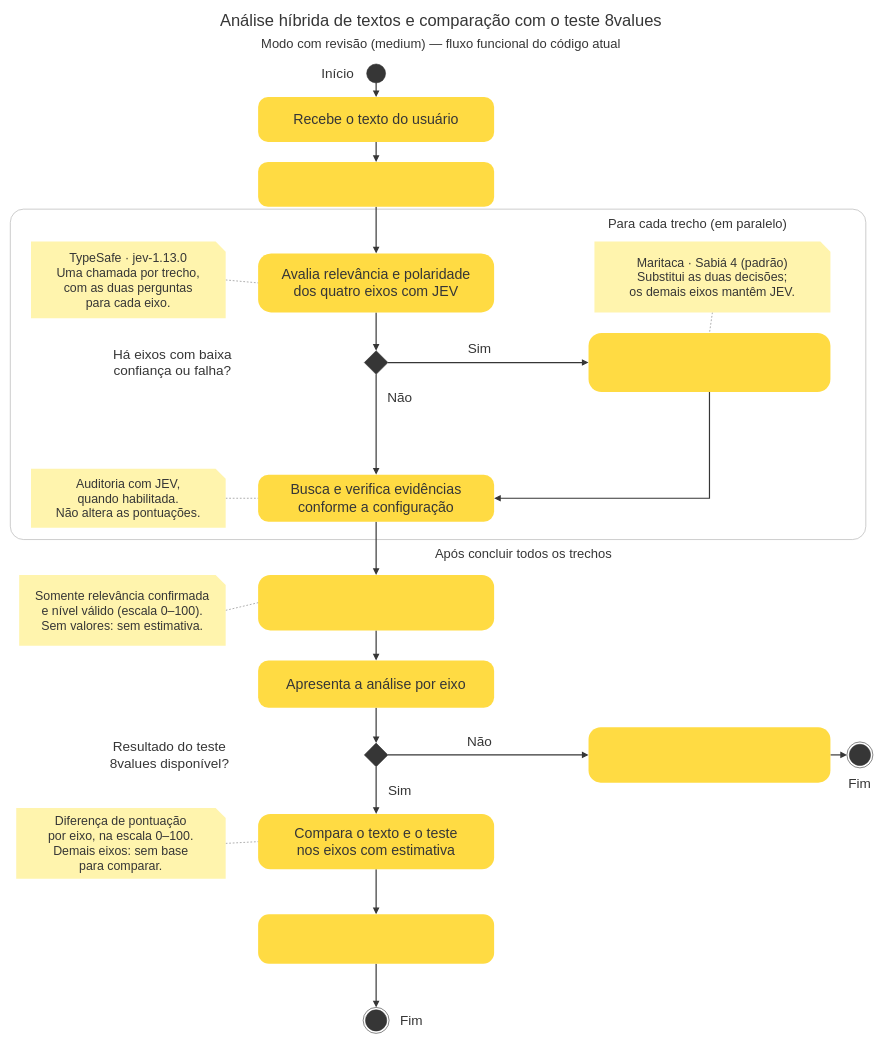
This 894x1044 diagram has some shape labels left out. Each missing label, with the centre of its shape:
"Agrega as pontuações válidas pela média de cada eixo" belongs at (x=376, y=602).
"Apresenta o resultado da comparação ao usuário" belongs at (x=376, y=938).
"Divide o texto em trechos" belongs at (x=376, y=184).
"Oferece adicionar o resultado do teste 8values" belongs at (x=709, y=754).
"Revisa relevância e polaridade dos eixos sinalizados com LLM" belongs at (x=709, y=362).
